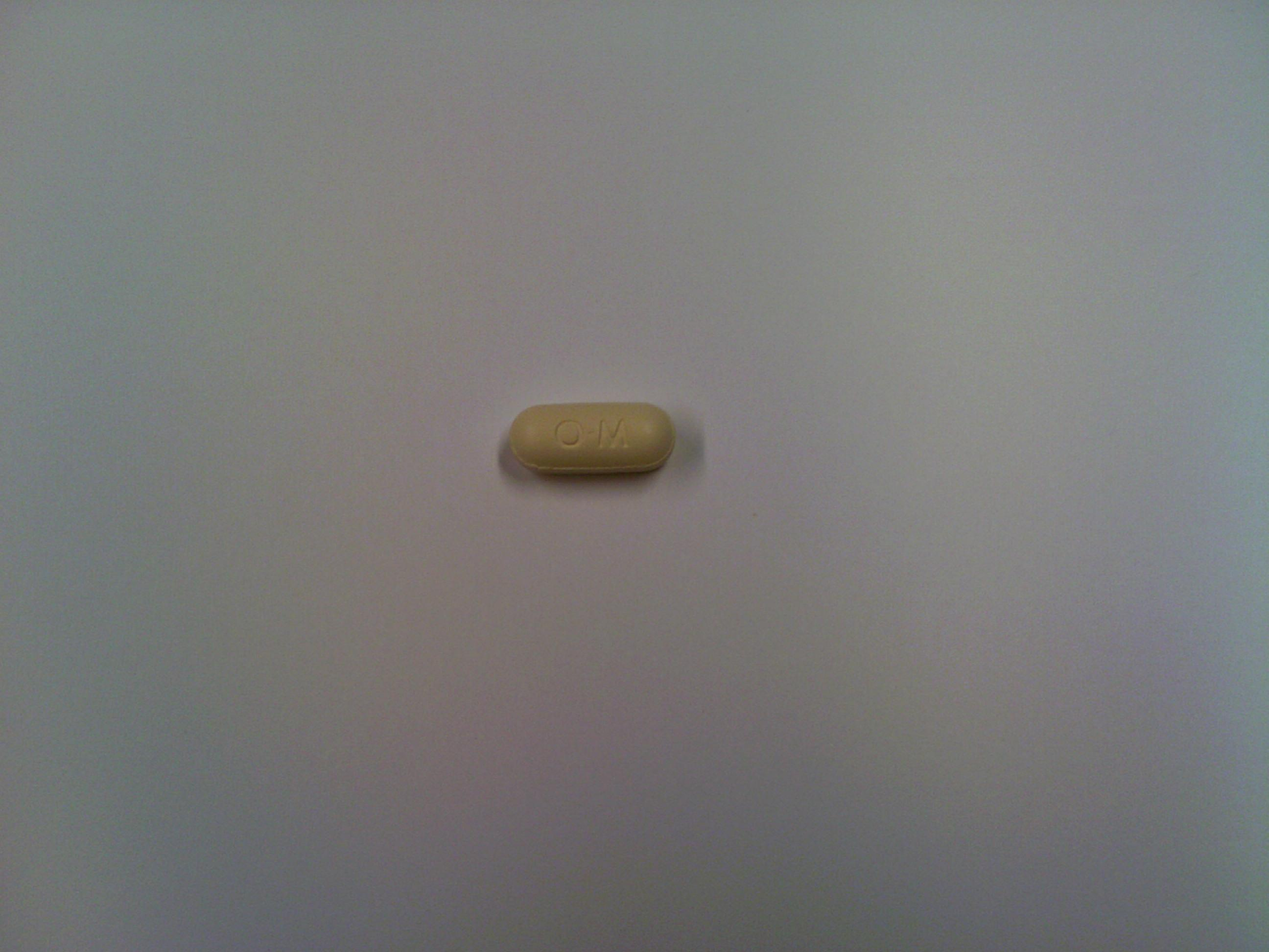Pill: (501, 393, 684, 482)
